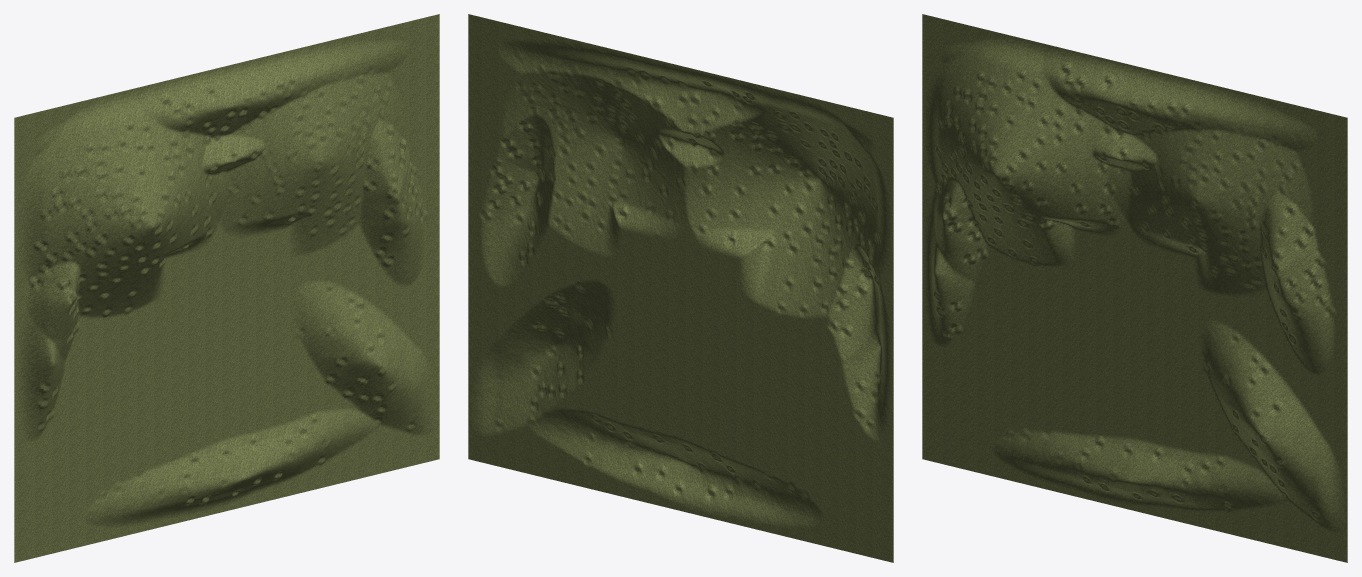
The model's file is mountain_terrain_collision.obj.
The picture shows the model from 3 angles, left to right: view 1: azimuth 30°, elevation 25°; view 2: azimuth 150°, elevation 25°; view 3: azimuth 330°, elevation 25°; orthographic projection.
Parts seen in each view (by area): view 1: ugv_mou_terrain_300m; view 2: ugv_mou_terrain_300m; view 3: ugv_mou_terrain_300m.
Boxes of the visible parts, x1,y1,x2,y2 form: ugv_mou_terrain_300m: (14,14,439,562); ugv_mou_terrain_300m: (468,14,893,562); ugv_mou_terrain_300m: (922,14,1347,562).
Bounding box in the file's own units: 300 × 300 × 40.
